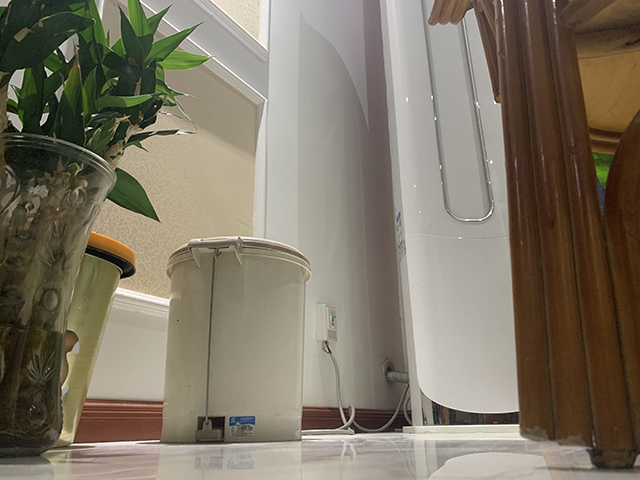trashcan: (160, 234, 314, 446)
wire: (306, 350, 406, 437)
